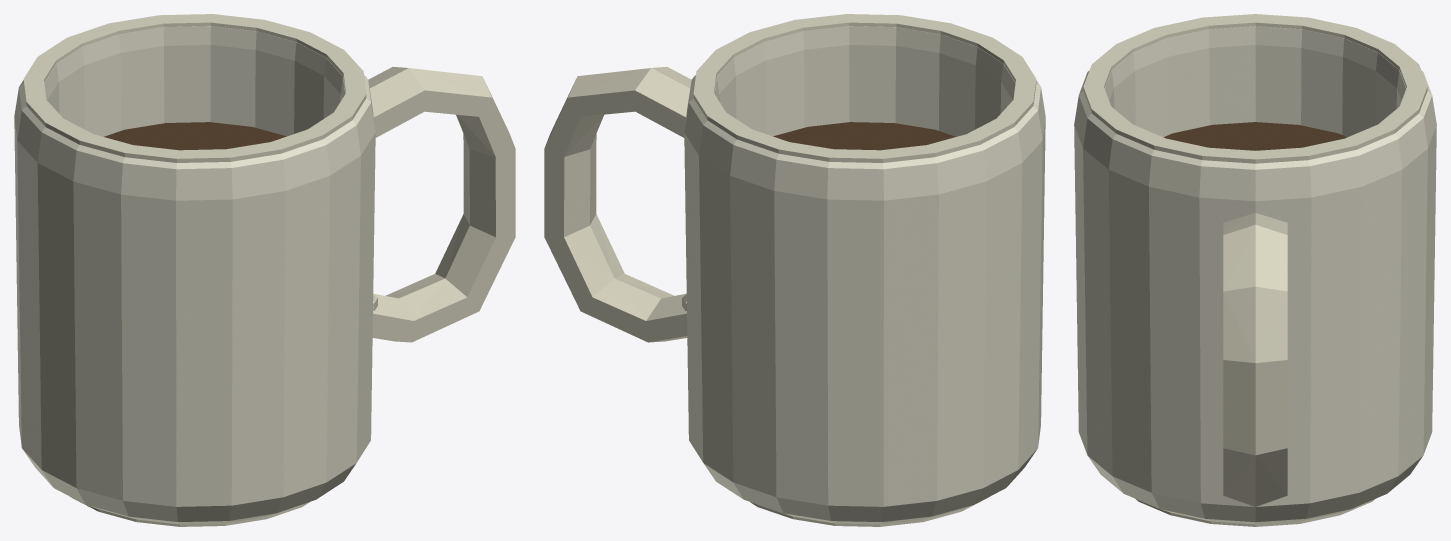
File: mug.glb
The picture shows the model from 3 angles, left to right: view 1: azimuth 30°, elevation 25°; view 2: azimuth 150°, elevation 25°; view 3: azimuth 270°, elevation 25°; orthographic projection.
Parts seen in each view (by area): view 1: home_mug; view 2: home_mug; view 3: home_mug.
Part boxes in pixels (<box>): home_mug: <box>14,14,515,526</box>; home_mug: <box>544,14,1045,526</box>; home_mug: <box>1074,14,1436,526</box>.
Bounding box in the file's own units: 0.117 × 0.09 × 0.078.
Materials: 1 (1 with a texture image).
